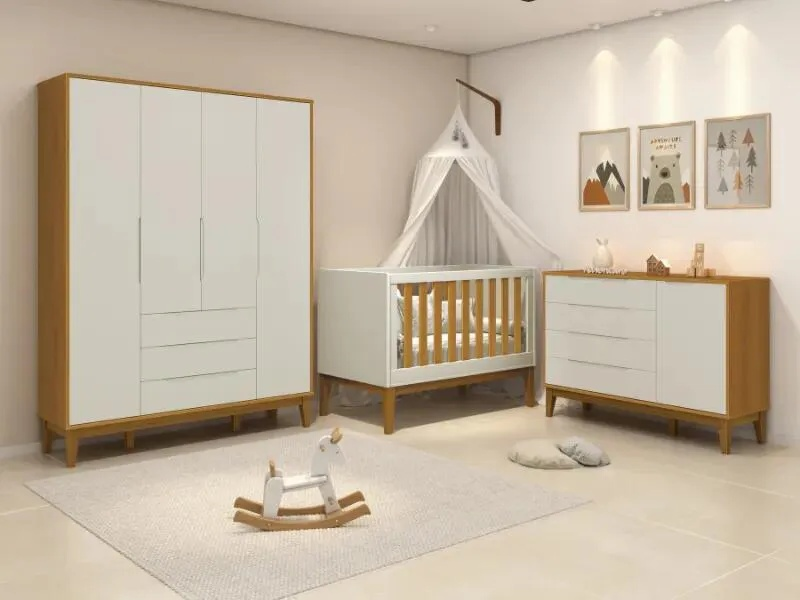crib: (317, 265, 535, 432)
